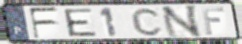1: (100, 7, 120, 38)
C: (130, 7, 165, 37)
E: (62, 7, 99, 37)
F: (28, 6, 60, 40), (199, 6, 227, 36)
N: (159, 4, 203, 39)
